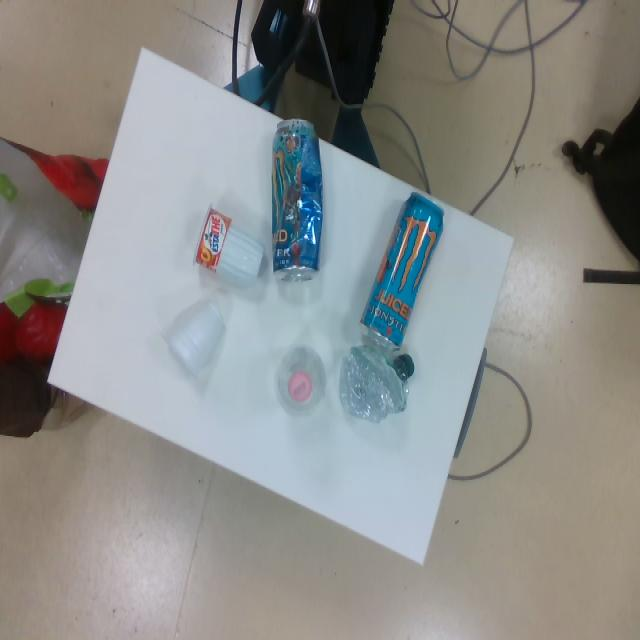aluminum: (359, 190, 444, 352), (272, 118, 324, 286)
plastic: (190, 200, 270, 291), (336, 343, 416, 426), (161, 293, 229, 383), (275, 344, 329, 420)
